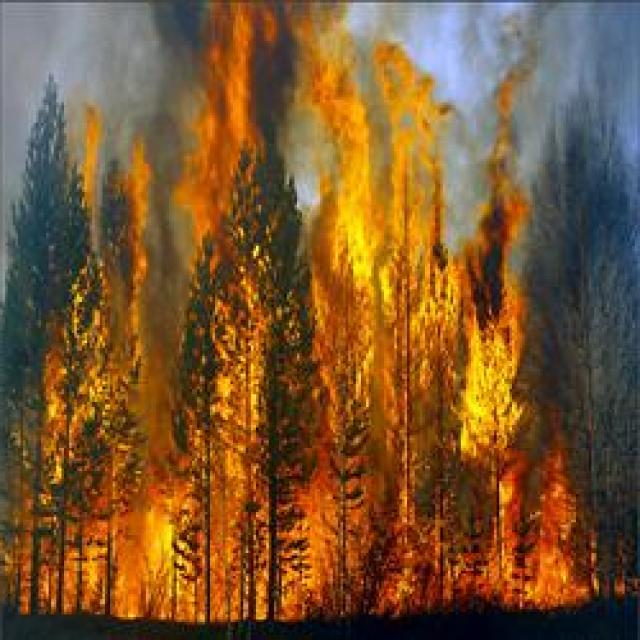fire: (371, 170, 412, 318), (461, 332, 516, 442), (114, 519, 170, 617), (321, 201, 374, 285), (526, 520, 570, 610), (340, 100, 364, 214)
smoke: (46, 0, 202, 74), (448, 1, 584, 66), (444, 57, 496, 196), (152, 136, 182, 310), (576, 2, 639, 84), (292, 0, 350, 85), (248, 44, 296, 144), (374, 54, 434, 132), (472, 222, 508, 324), (354, 1, 432, 35)
